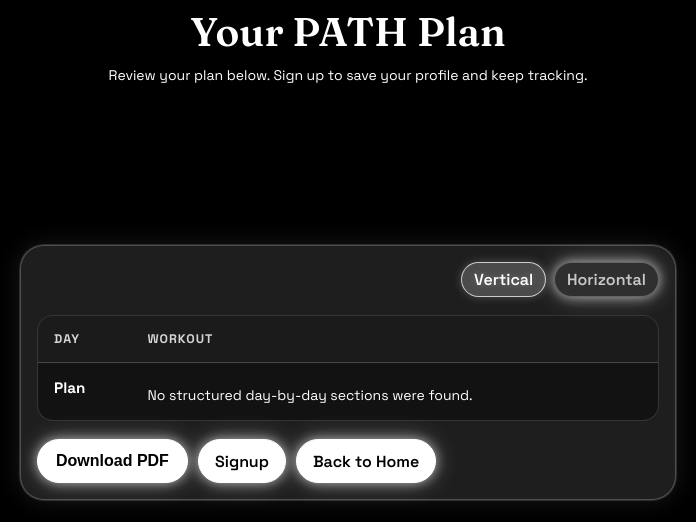
WorkoutResultPage › switching layouts › Vertical switches back
The image size is (696, 522).
Click the button "Horizontal": [606, 279] box [554,262,659,297]
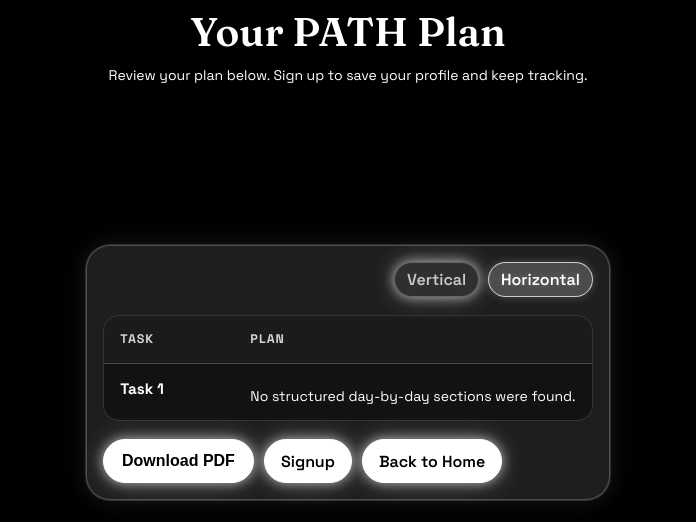
Click the button "Vertical": [437, 280] box [394,262,480,297]
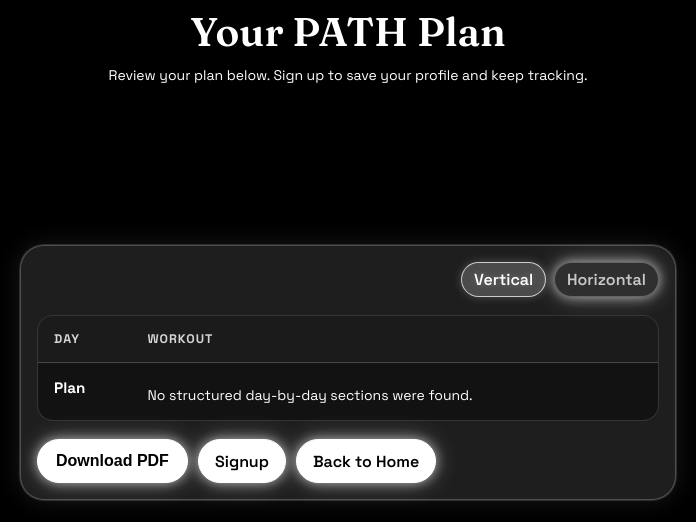
Result: the table named "Generated workout table vertical layout" is shown at [38,316,658,420]
